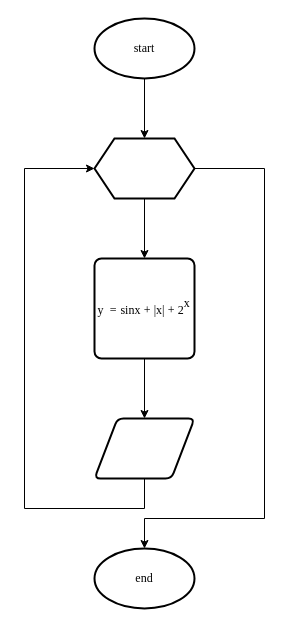
Some shapes in this 290 by 626 pixel diagram are drawn without their labels. The shapes that lost their labels are listed below. From the top down, each one's centre as x and y in pixels, then its label:
pixel 144 168: x = 0.5; x < 3.5; x += 0.5
pixel 144 448: output y
